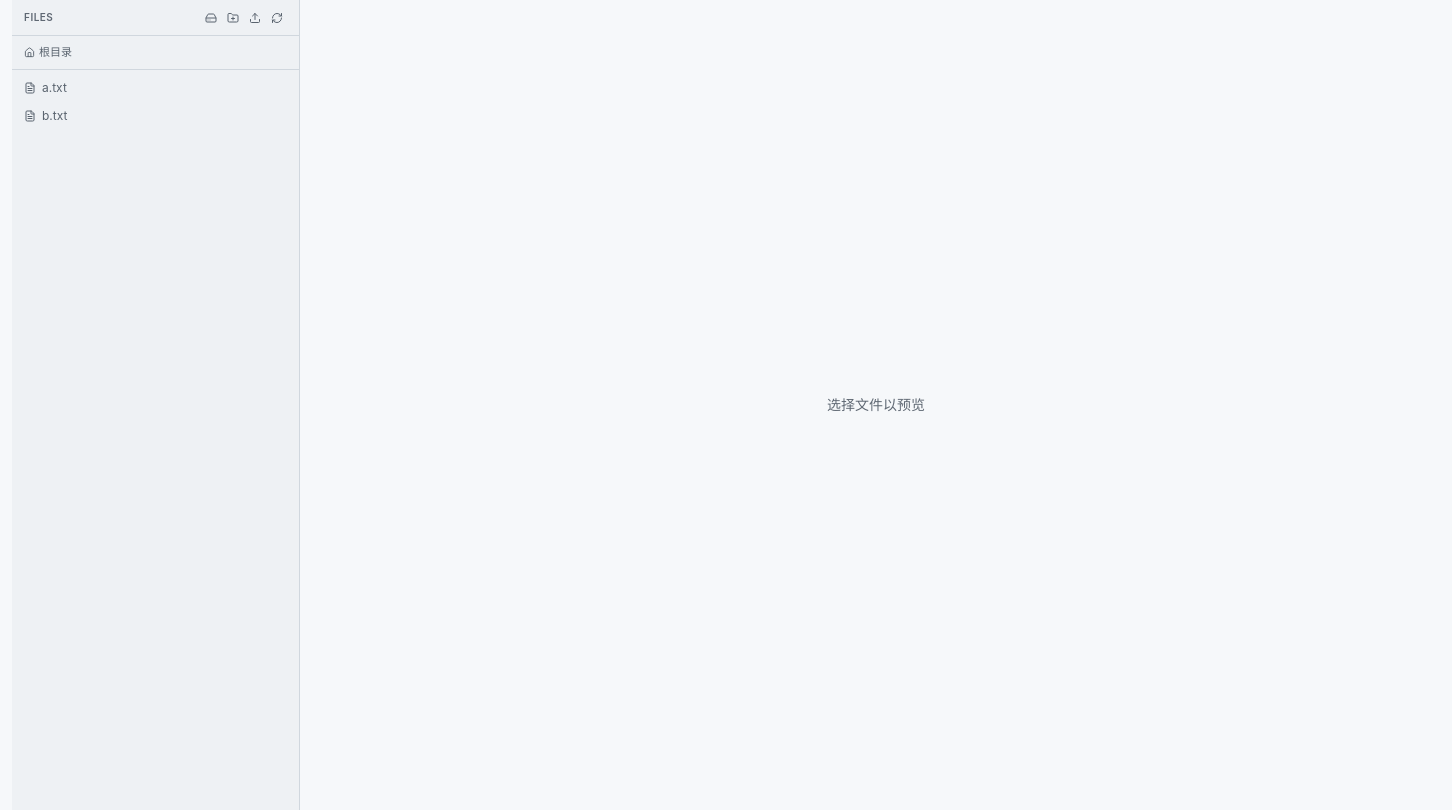
Test: FileBrowser › out-of-order file reads: a slow first read cannot overwrite the newer selection (F2)
Click the button "a.txt". click: (136, 88)
box: [12, 74, 261, 102]
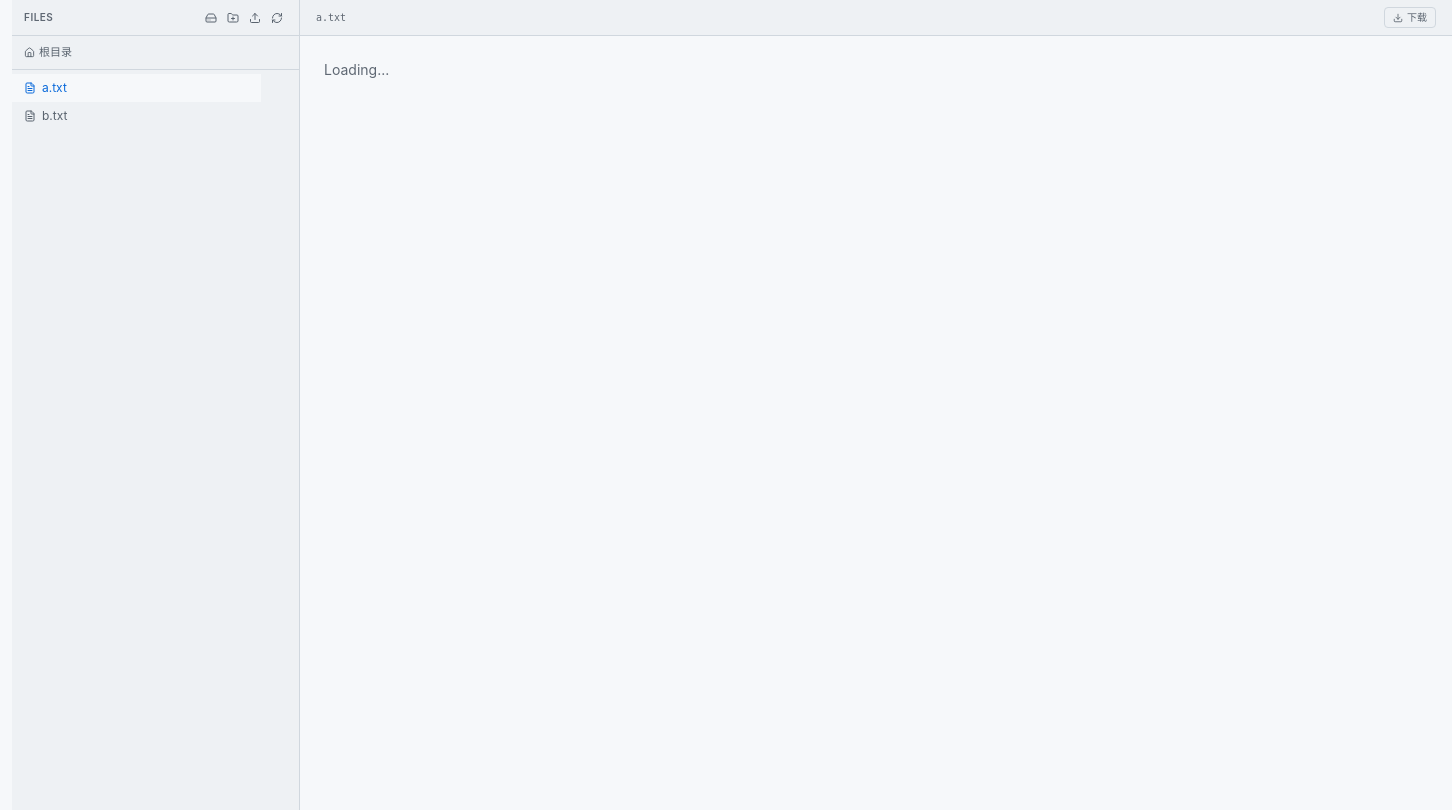
Click the button "b.txt". click: (136, 116)
box: [12, 102, 261, 130]
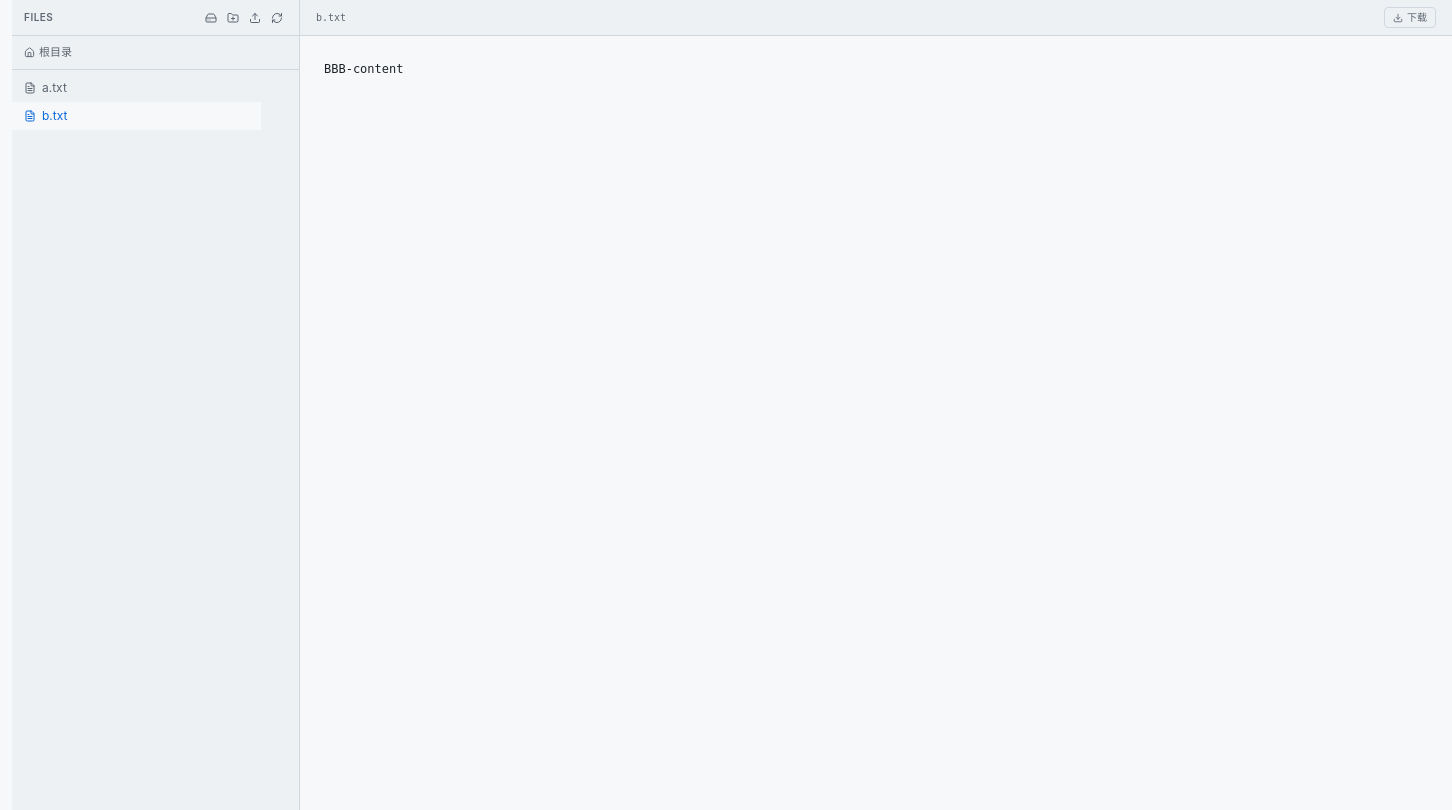
Expected: the text "BBB-content" is shown, [324, 62, 404, 76]
